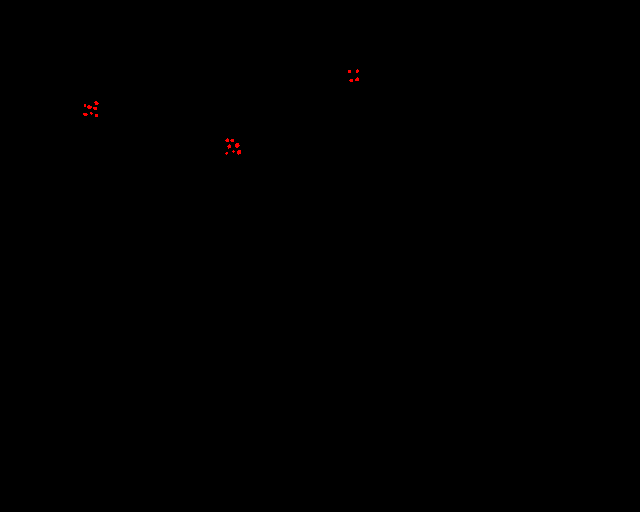Target: (235, 143, 240, 148), (94, 101, 99, 105), (87, 105, 92, 109), (227, 144, 231, 149), (237, 150, 241, 155), (355, 77, 359, 81), (225, 138, 229, 142), (83, 113, 88, 116), (356, 69, 359, 73), (349, 79, 353, 82), (93, 107, 97, 110), (230, 139, 234, 142), (348, 70, 351, 73), (90, 112, 93, 115), (95, 114, 98, 117), (232, 150, 235, 153), (225, 152, 228, 155), (84, 104, 86, 107)
